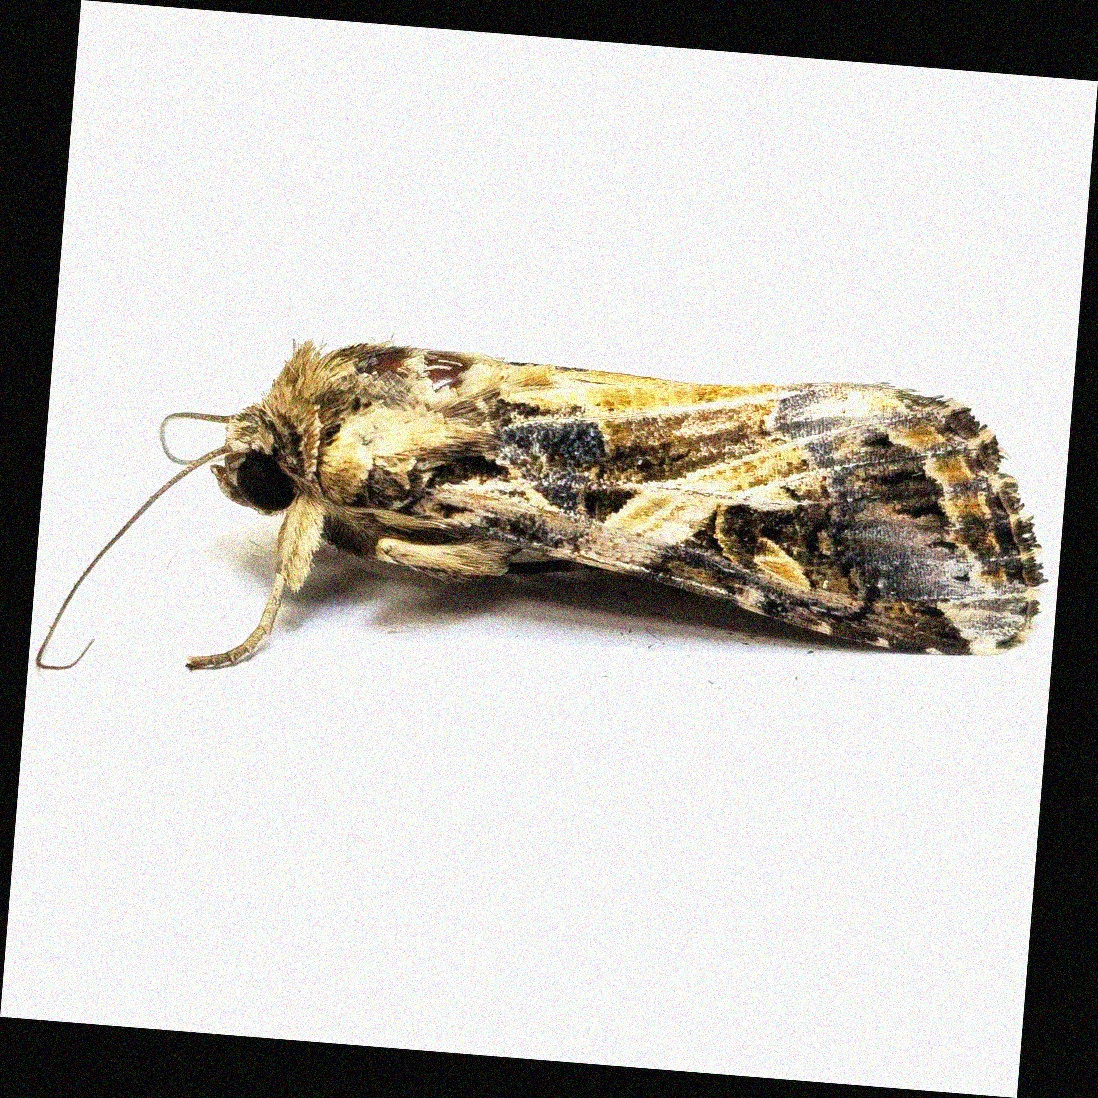Spodoptera litura: (48, 344, 1051, 711)
